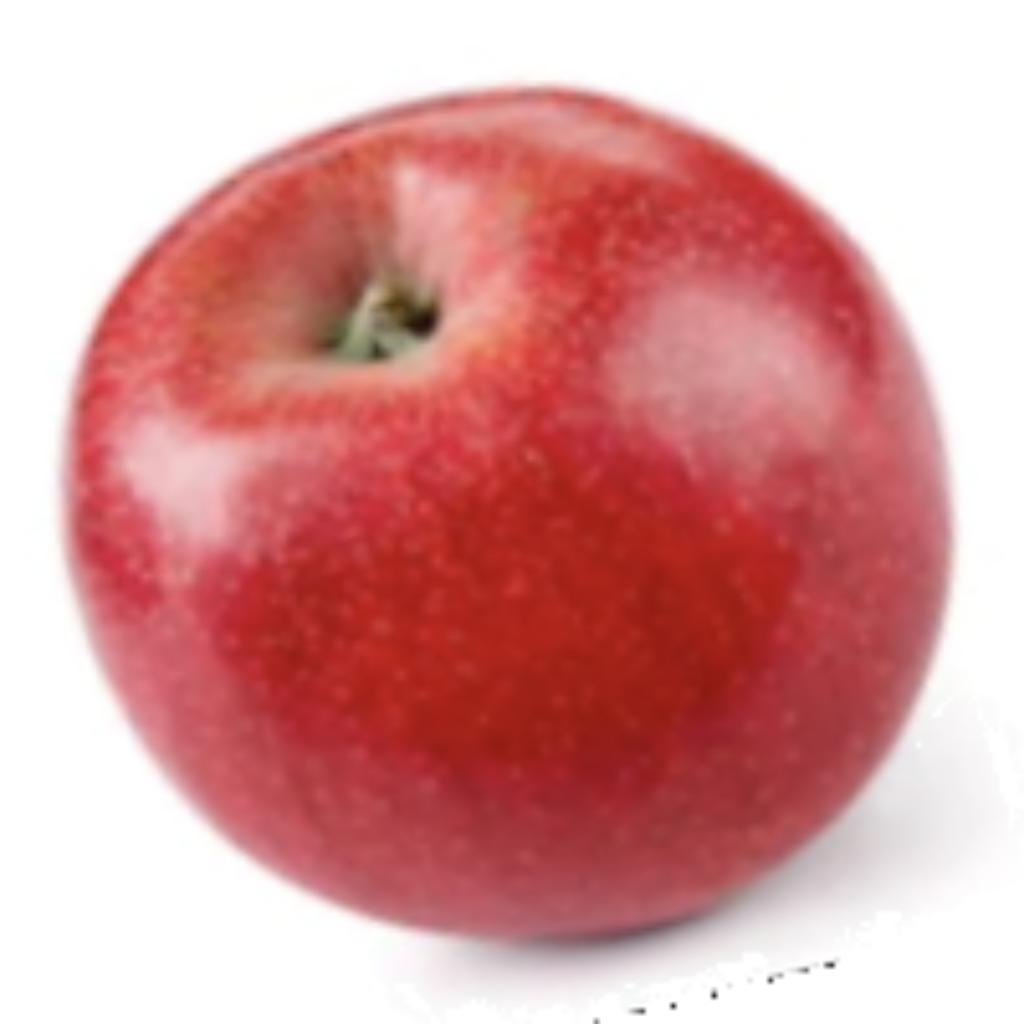apple: (46, 67, 983, 1019)
